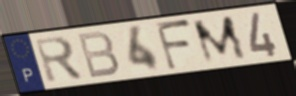4: (127, 22, 162, 76), (248, 10, 279, 58)
B: (74, 30, 122, 81)
F: (153, 18, 194, 72)
M: (190, 13, 250, 66)
R: (32, 34, 87, 86)
